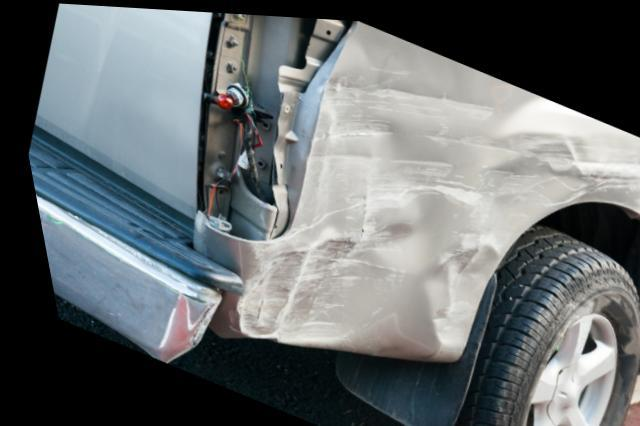dent: (226, 17, 640, 345)
no part: (190, 10, 353, 240)
